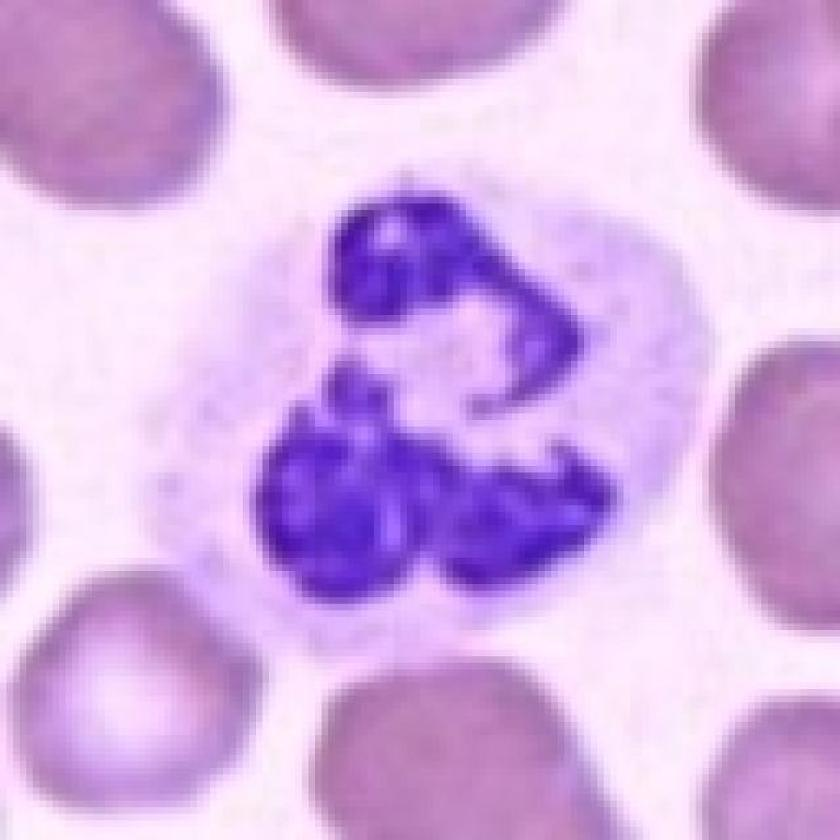neutrophil: (30, 177, 694, 711)
